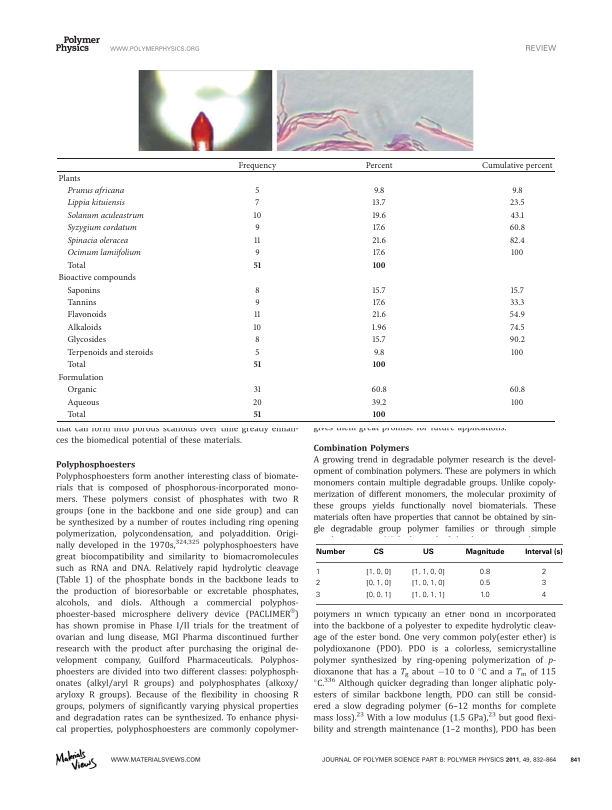borderless: (55, 156, 555, 421), (315, 542, 563, 604)
cell: (66, 347, 154, 358), (57, 272, 137, 283), (66, 210, 145, 221), (66, 247, 142, 258), (481, 160, 554, 171), (66, 223, 138, 233), (66, 235, 129, 246), (66, 185, 125, 196), (66, 198, 126, 208), (57, 372, 104, 383), (238, 160, 277, 171), (66, 310, 108, 320), (66, 335, 107, 345), (66, 322, 103, 333), (66, 397, 100, 408), (464, 548, 505, 557), (66, 384, 98, 395), (524, 548, 563, 557), (66, 285, 101, 295), (66, 297, 97, 308), (365, 160, 394, 171), (410, 567, 445, 576), (410, 590, 445, 599), (314, 548, 346, 557), (410, 579, 445, 587), (365, 567, 392, 576), (365, 590, 392, 599), (57, 173, 81, 183), (66, 260, 87, 271), (66, 409, 87, 420), (365, 579, 392, 587), (66, 360, 87, 370), (509, 235, 526, 246), (509, 322, 526, 333), (371, 384, 388, 395), (509, 384, 526, 395), (371, 210, 387, 221), (371, 235, 387, 246), (509, 297, 525, 308), (371, 322, 387, 333), (371, 397, 387, 408), (509, 198, 526, 208), (509, 223, 526, 233), (509, 310, 526, 320), (509, 335, 526, 345), (510, 210, 525, 221), (371, 310, 387, 320), (372, 247, 386, 258), (510, 247, 524, 258), (372, 297, 386, 308), (510, 347, 524, 358), (510, 397, 524, 408), (372, 198, 387, 208), (372, 285, 387, 295), (510, 285, 525, 295), (372, 335, 387, 345), (511, 185, 524, 196), (372, 223, 386, 233), (372, 409, 387, 418), (373, 185, 385, 196), (373, 347, 385, 358), (252, 397, 263, 408), (372, 260, 387, 268), (372, 360, 387, 368), (421, 548, 434, 557), (372, 548, 384, 557), (478, 567, 491, 575), (253, 210, 262, 221), (253, 322, 262, 333), (253, 384, 262, 395), (478, 579, 491, 586), (479, 590, 490, 598), (253, 235, 261, 246), (253, 409, 262, 418), (253, 310, 261, 320), (254, 247, 261, 258), (254, 297, 261, 308), (253, 260, 262, 268), (253, 360, 262, 368), (254, 223, 261, 233), (254, 285, 261, 295), (254, 335, 261, 345), (254, 185, 260, 196), (254, 347, 260, 358), (254, 198, 260, 208), (314, 567, 321, 575), (540, 567, 546, 575), (315, 590, 321, 598), (540, 590, 546, 598), (315, 579, 321, 586), (540, 579, 546, 586)
